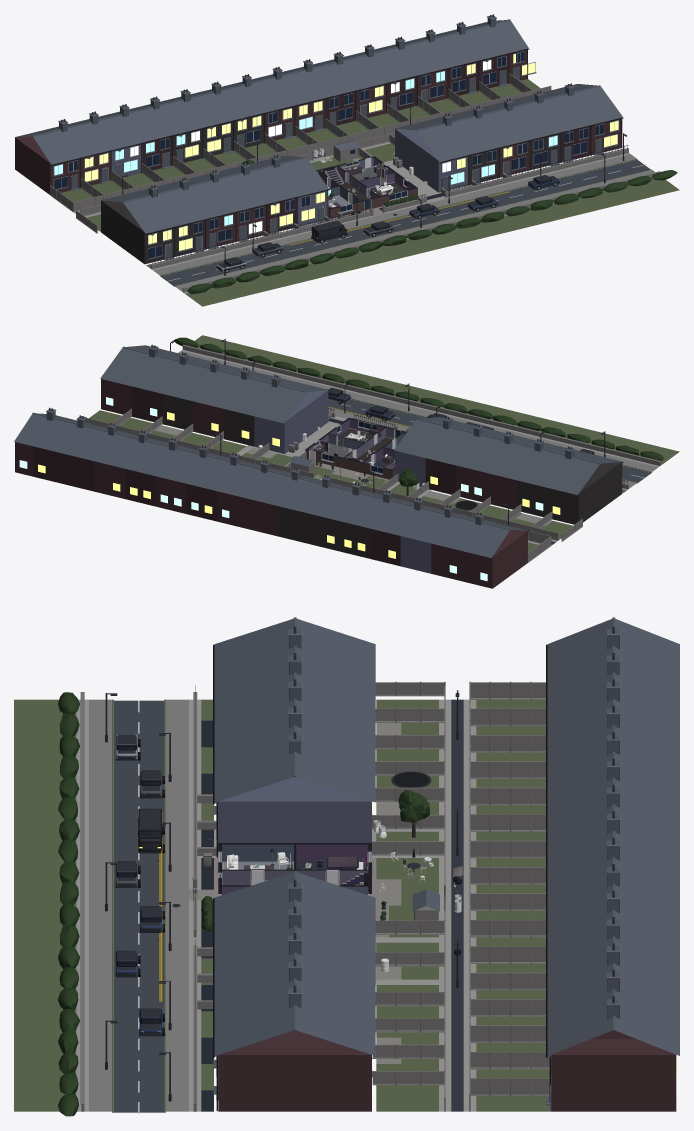
The model's file is level.glb.
The picture shows the model from 3 angles, top to bottom: view 1: azimuth 30°, elevation 25°; view 2: azimuth 150°, elevation 25°; view 3: azimuth 270°, elevation 25°; orthographic projection. The views are drawn at different scales.
Visible parts, largest first — view 1: static, lit_windows; view 2: static, lit_windows, caps; view 3: static, caps.
Part boxes in pixels (box(x1,y1,x2,y2)): static: box(15, 14, 679, 306); lit_windows: box(54, 54, 618, 250); static: box(14, 335, 679, 588); lit_windows: box(19, 397, 560, 581); caps: box(305, 418, 406, 470); static: box(14, 617, 679, 1116); caps: box(218, 843, 371, 893).
Bounding box in the file's own units: 80.76 × 8.82 × 53.3.
